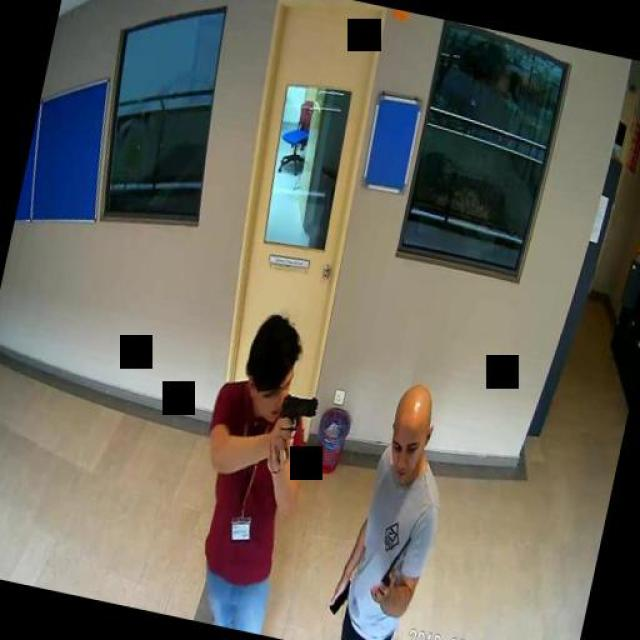gun: (272, 388, 318, 452)
